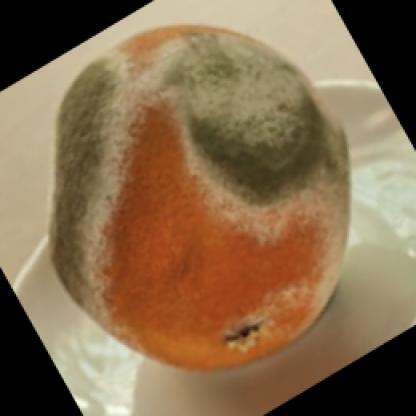rotten: (54, 25, 352, 369)
